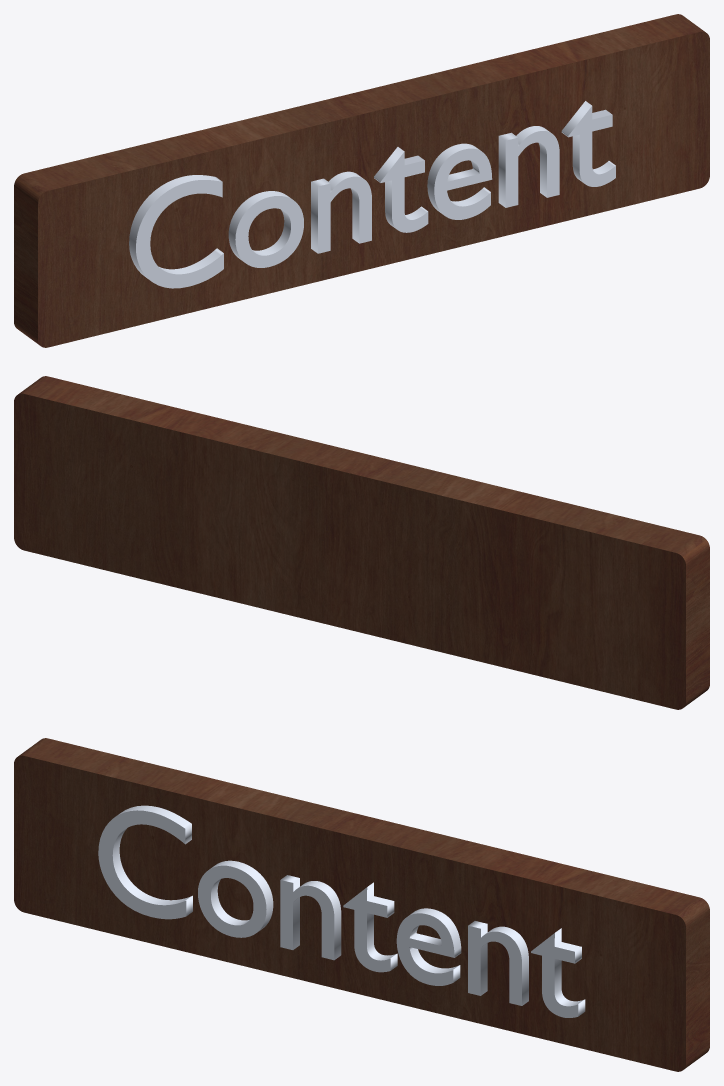
Rendered from contentbutton.glb.
3 renders of one model, top to bottom at view 1: azimuth 30°, elevation 25°; view 2: azimuth 150°, elevation 25°; view 3: azimuth 330°, elevation 25°, orthographic.
Parts seen in each view (by area): view 1: text; view 2: text; view 3: text.
Part boxes in pixels (<box>): text: <box>14,14,709,347</box>; text: <box>14,376,709,709</box>; text: <box>14,738,709,1071</box>.
Size of the model in its own units: 3.64 by 0.8117 by 0.2893.
Materials: 2 (1 with a texture image).
